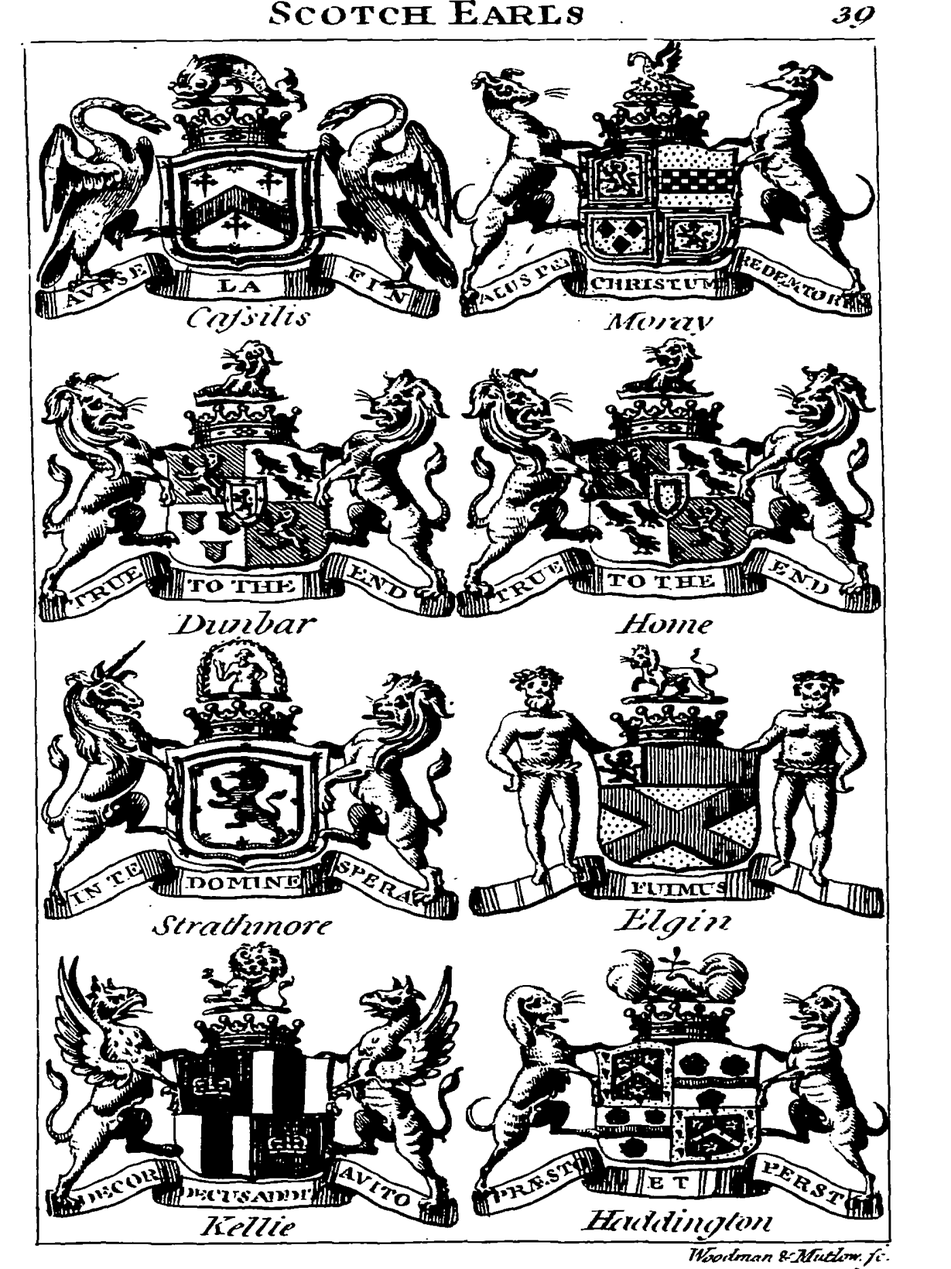coat_of_arms: (459, 332, 876, 645), (461, 934, 886, 1239), (454, 37, 870, 339), (26, 39, 453, 332), (39, 941, 464, 1235), (43, 642, 460, 941), (43, 340, 457, 639), (457, 648, 879, 941)
